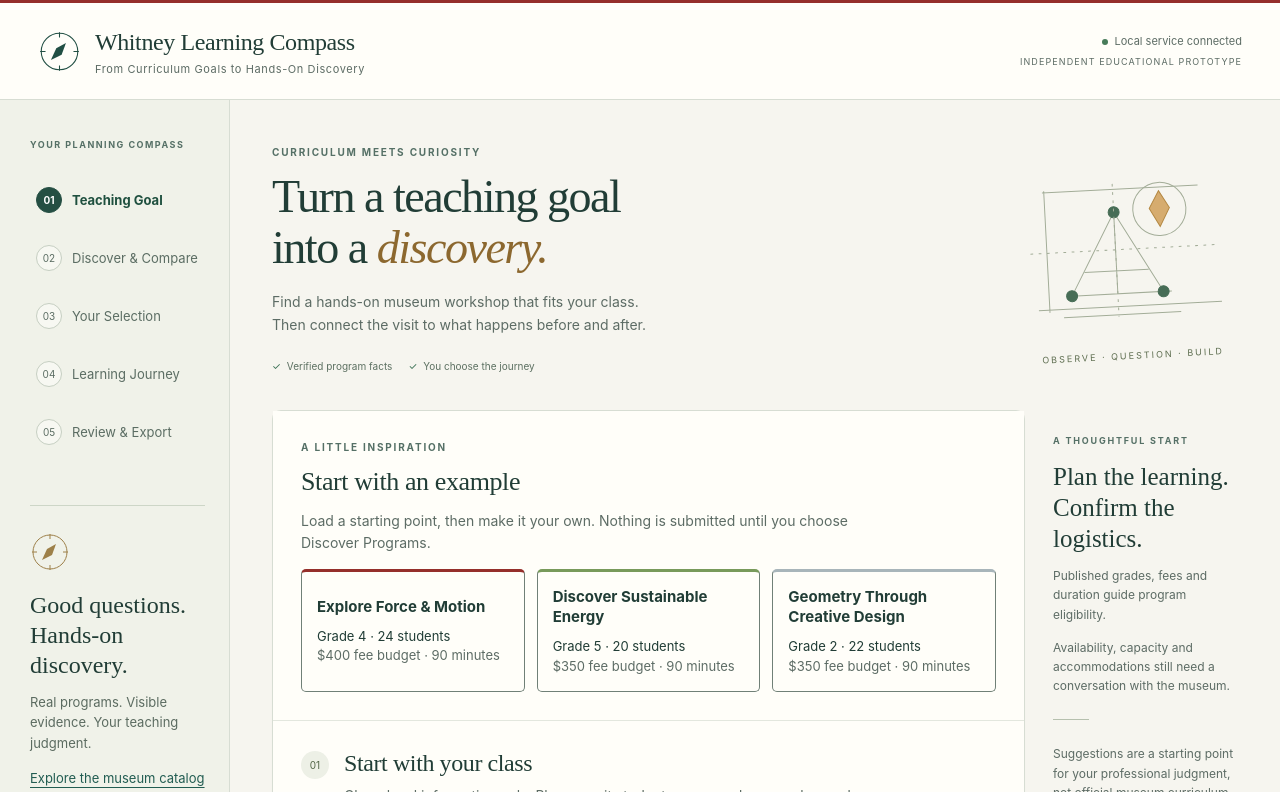
Test: loads Explore Force & Motion into actual editable intake without inference or consent
Click the button with aria-label "Load Explore Force & Motion example": (413, 630) [301,569,525,692]
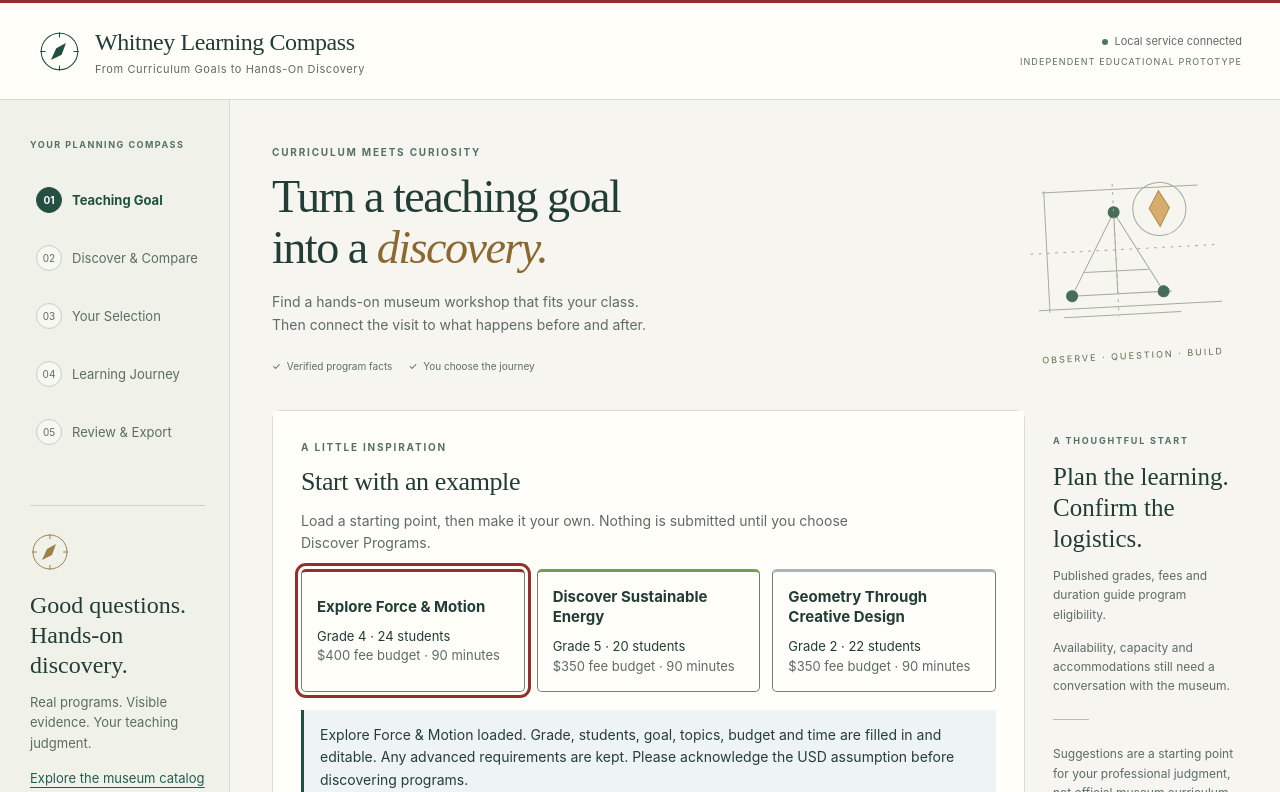
Expected: the message shows "filled in and editable", [320,726,954,788]
